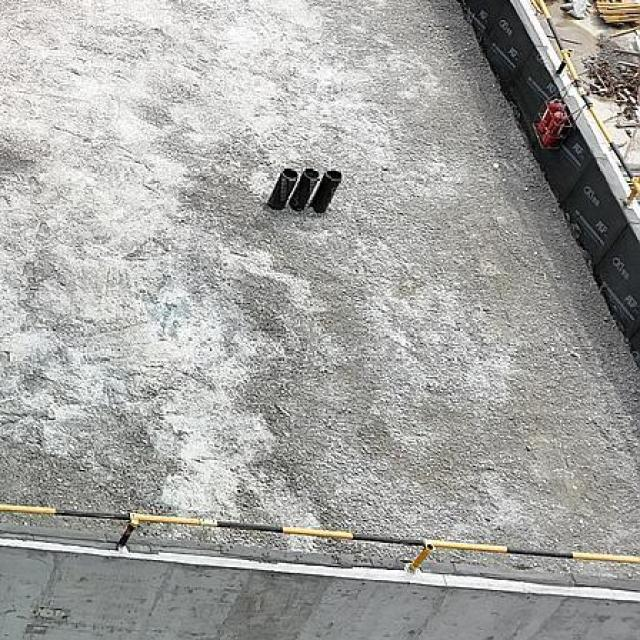edge_guardrail: (0, 501, 640, 570), (533, 0, 640, 209)
